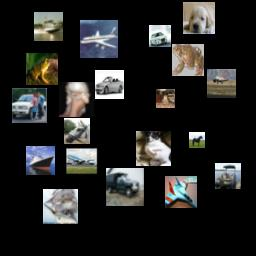airplane: (80, 20, 118, 58), (66, 145, 98, 177), (165, 176, 197, 208), (207, 69, 236, 98)
automobile: (12, 88, 47, 123), (95, 70, 124, 99), (149, 25, 171, 47)
cat: (156, 89, 175, 108)
dog: (136, 131, 171, 166), (59, 82, 94, 117), (183, 2, 215, 34)
frog: (172, 44, 204, 76), (26, 53, 58, 85)
ship: (43, 189, 78, 224), (26, 146, 55, 175), (34, 12, 63, 41), (215, 163, 241, 189)
truck: (106, 168, 144, 206)
